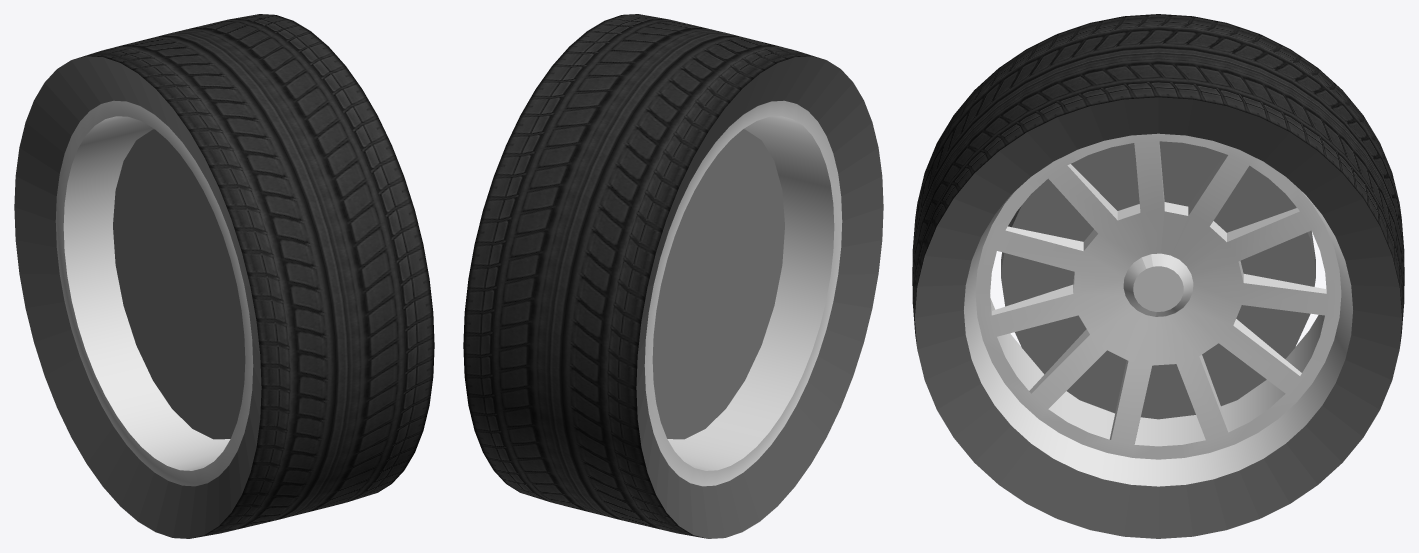
The model's file is wheel1.dae.
3 views of the same model, side by side, from view 1: azimuth 30°, elevation 25°; view 2: azimuth 150°, elevation 25°; view 3: azimuth 270°, elevation 25° (orthographic).
Parts seen in each view (by area): view 1: wheel1; view 2: wheel1; view 3: wheel1.
Part boxes in pixels (x1,y1,x2,y2): wheel1: [14, 14, 434, 538]; wheel1: [463, 14, 883, 538]; wheel1: [912, 14, 1404, 538].
Bounding box in the file's own units: 0.3146 × 0.7862 × 0.7862.
Materials: 4 (1 with a texture image).
